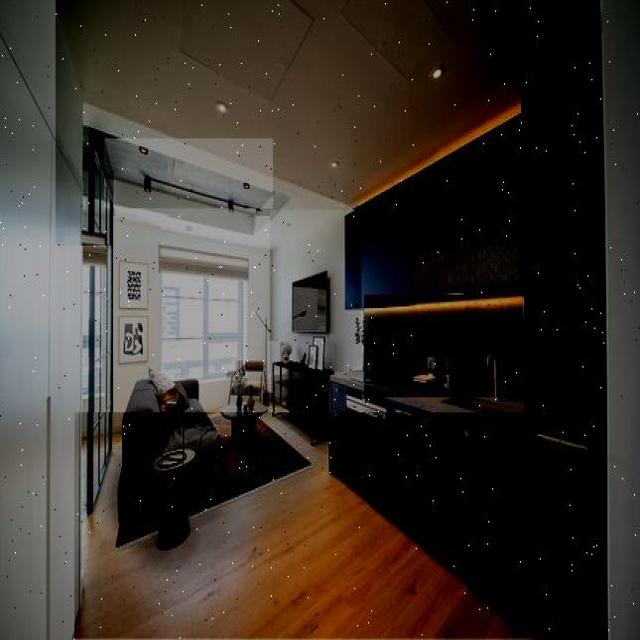Wall: (56, 0, 600, 246), (75, 414, 529, 639), (113, 216, 272, 432), (365, 296, 523, 397), (270, 210, 361, 372), (105, 138, 273, 208), (115, 181, 256, 232), (120, 208, 187, 229), (201, 379, 228, 409)
